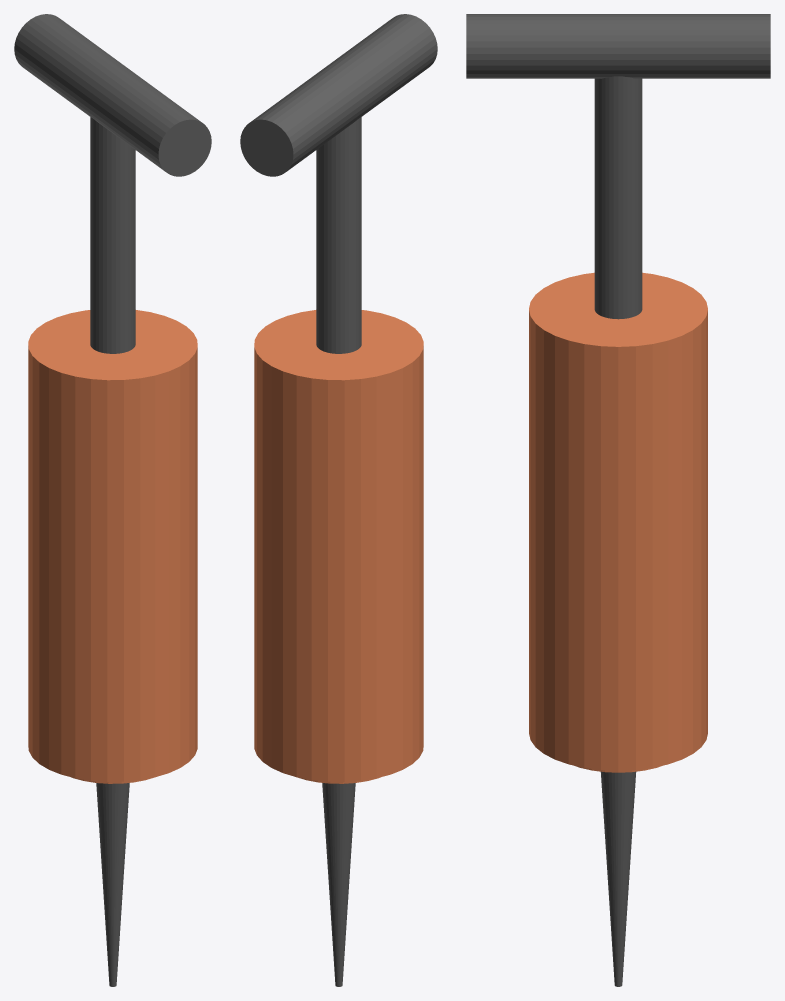
The model's file is pumpe.fbx.
3 views of the same model, side by side, from view 1: azimuth 30°, elevation 25°; view 2: azimuth 150°, elevation 25°; view 3: azimuth 270°, elevation 25° (orthographic). The views are drawn at different scales.
Parts seen in each view (by area): view 1: pumpe; view 2: pumpe; view 3: pumpe.
Boxes of the visible parts, bbox=[...] form: pumpe: bbox=[14, 14, 211, 986]; pumpe: bbox=[240, 14, 437, 986]; pumpe: bbox=[466, 14, 770, 986].
Size of the model in its own units: 200 by 1192 by 339.
